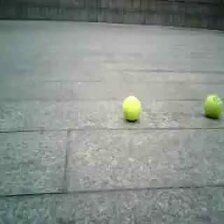tennis: (122, 95, 141, 121), (204, 94, 222, 117)
